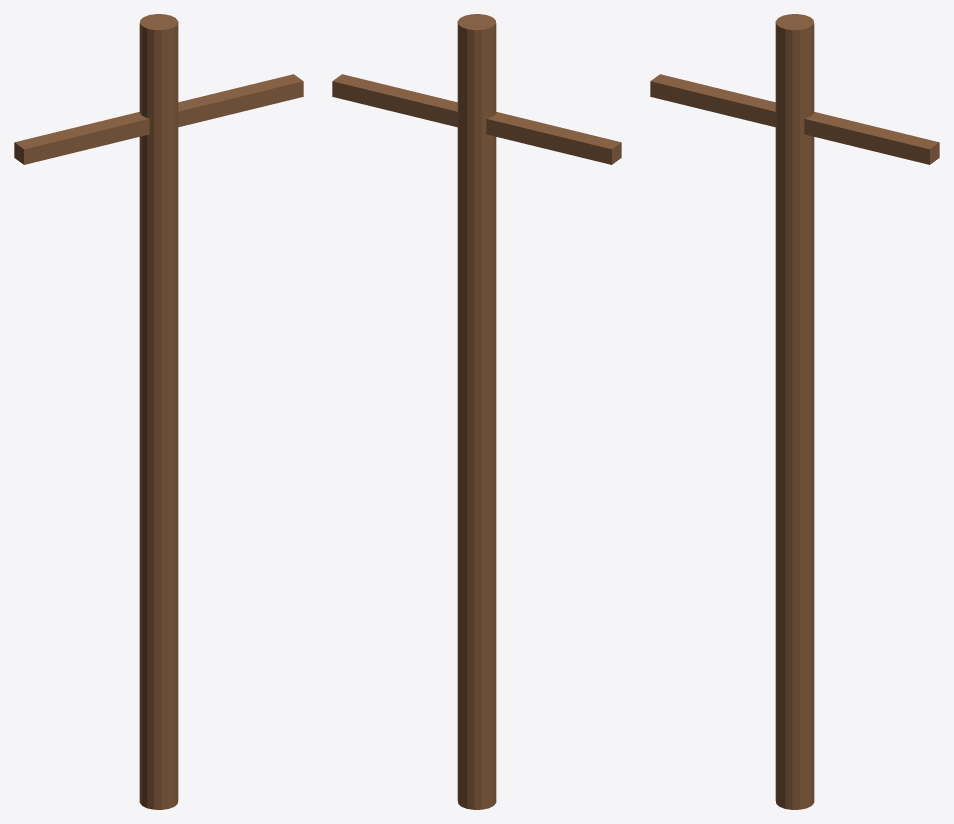
File: Prop_Street_011.glb
3 renders of one model, left to right at view 1: azimuth 30°, elevation 25°; view 2: azimuth 150°, elevation 25°; view 3: azimuth 330°, elevation 25°, orthographic.
Visible parts, largest first — view 1: Prop_Street_011; view 2: Prop_Street_011; view 3: Prop_Street_011.
Boxes of the visible parts, x1,y1,x2,y2 form: Prop_Street_011: [14, 14, 303, 809]; Prop_Street_011: [332, 14, 621, 809]; Prop_Street_011: [650, 14, 939, 809].
Bounding box in the file's own units: 3 × 8 × 0.36.
